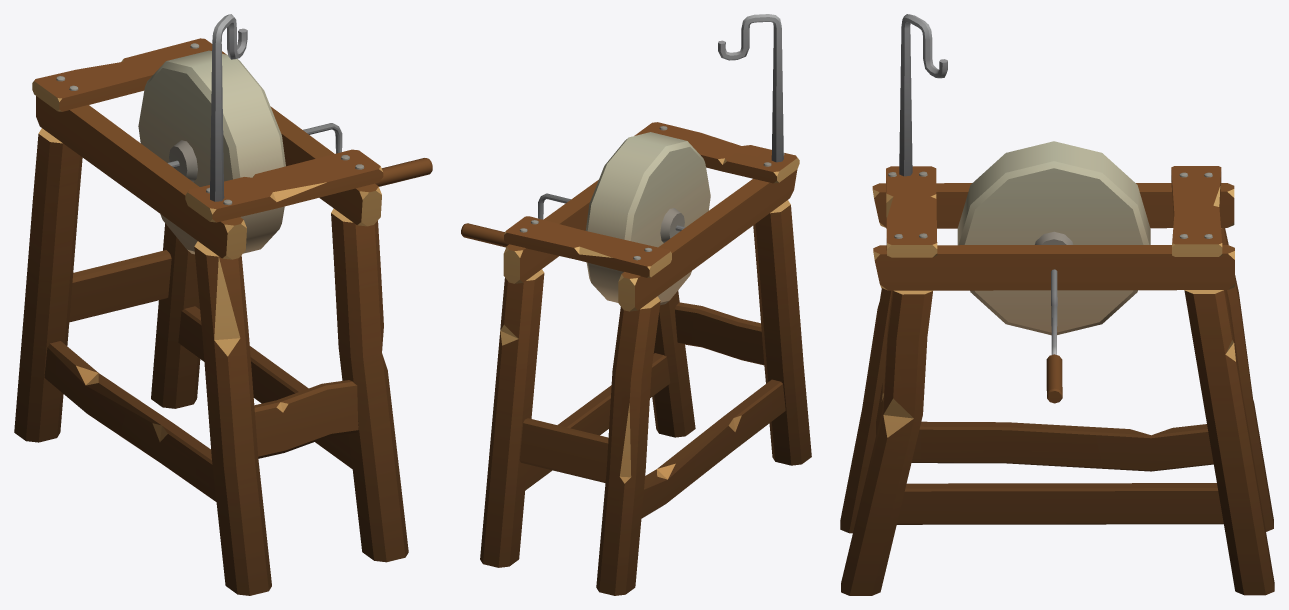
Rendered from Grinder_A.glb.
The picture shows the model from 3 angles, left to right: view 1: azimuth 30°, elevation 25°; view 2: azimuth 150°, elevation 25°; view 3: azimuth 270°, elevation 25°; orthographic projection. The views are drawn at different scales.
Parts seen in each view (by area): view 1: Grinder_A; view 2: Grinder_A; view 3: Grinder_A.
Boxes of the visible parts, x1,y1,x2,y2 form: Grinder_A: (14,14,432,595); Grinder_A: (461,14,811,595); Grinder_A: (840,14,1274,595).
Size of the model in its own units: 0.9756 by 1.65 by 1.27.
Materials: 2 (2 with a texture image).
